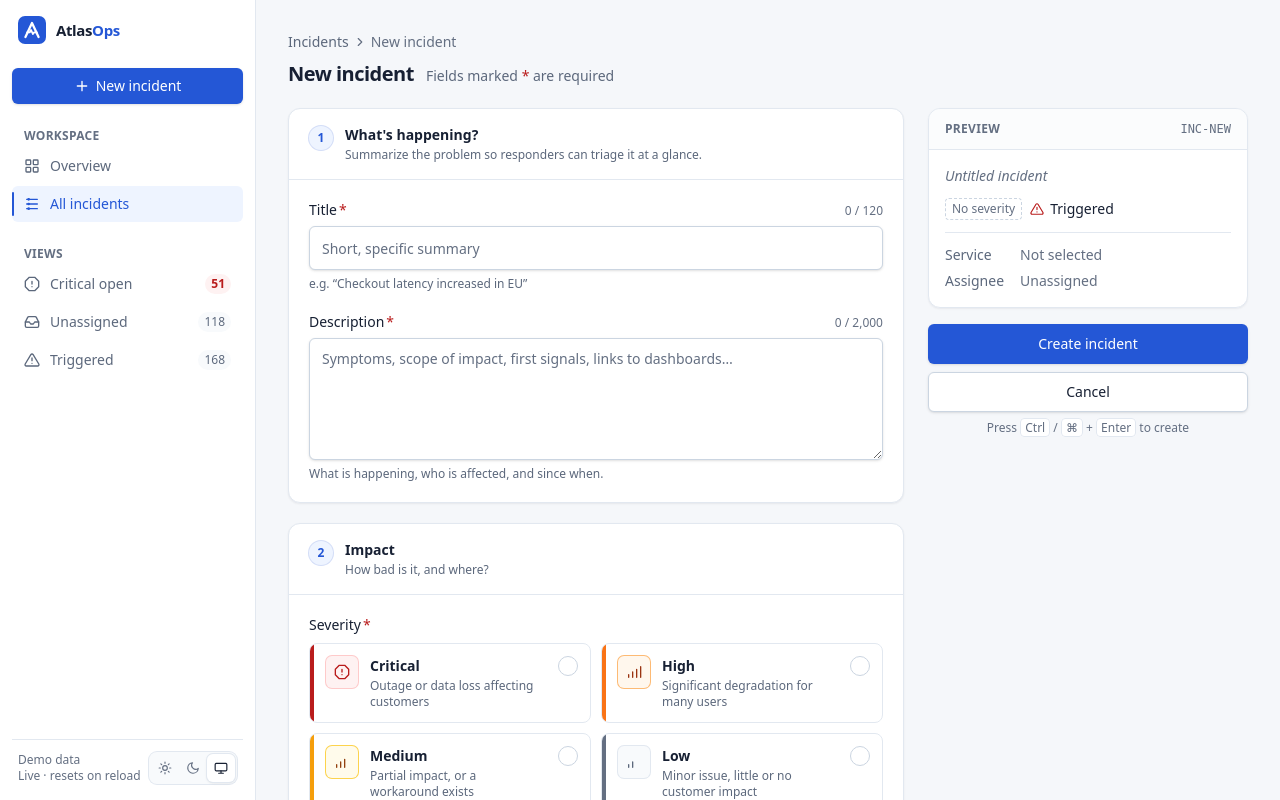
Test: Create incident page › has no detectable accessibility violations, including in the error state
Expected: the heading "New incident" is shown, [288,60,414,88]
Step 1. Click the button "Create incident" → (1088, 344), box [928,324,1248,364]
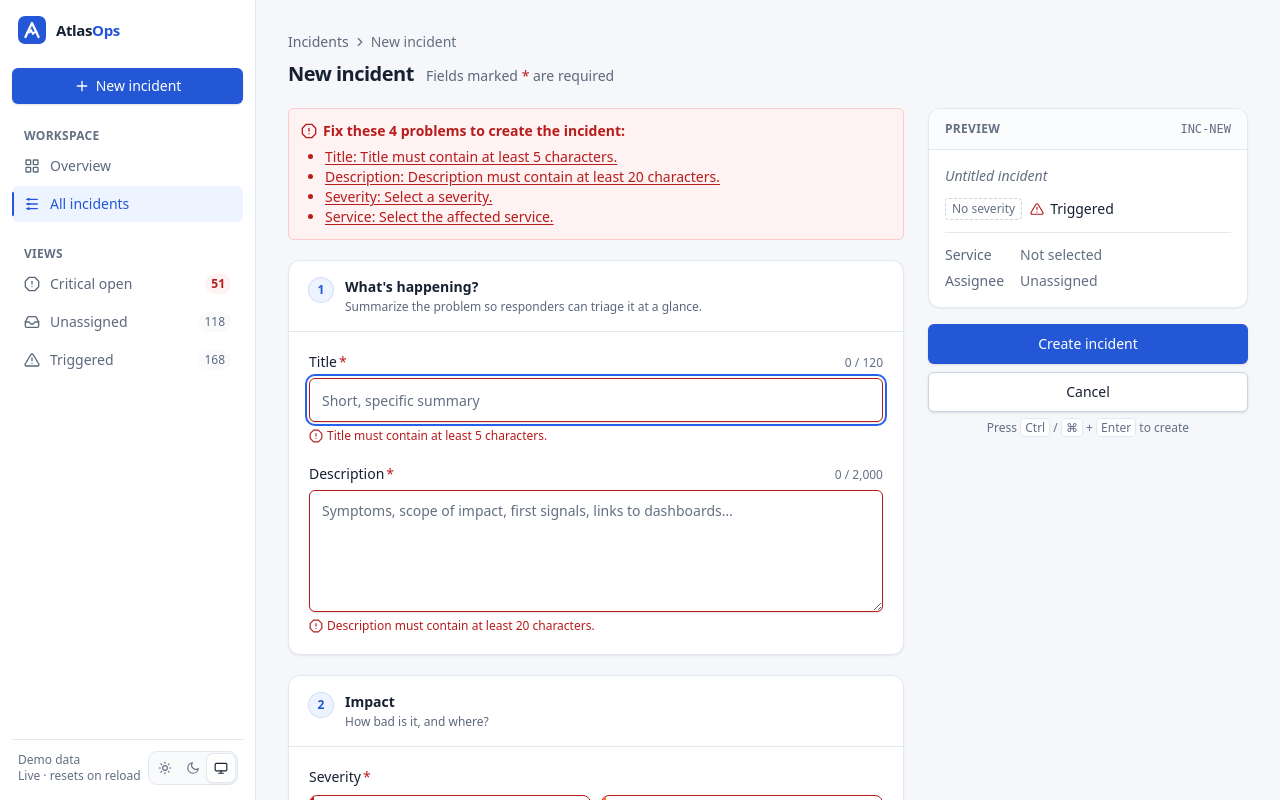
Expected: the message is shown, [288,108,904,240]
